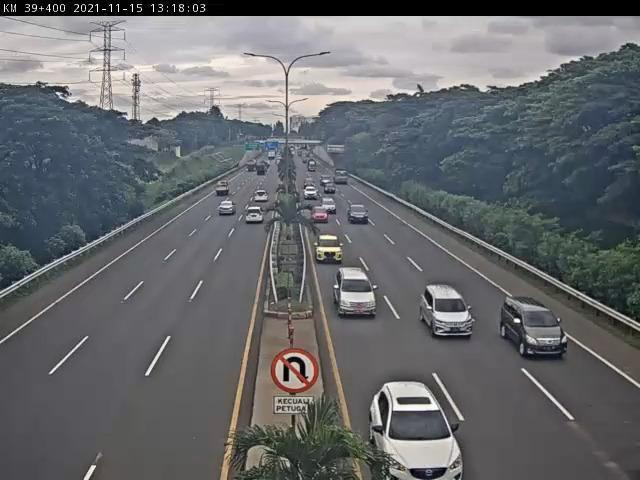car: (366, 380, 463, 480), (499, 297, 571, 362), (418, 284, 478, 343), (331, 266, 379, 320), (315, 234, 345, 265), (347, 204, 371, 226), (244, 206, 267, 228), (311, 205, 332, 227), (220, 200, 239, 219)
